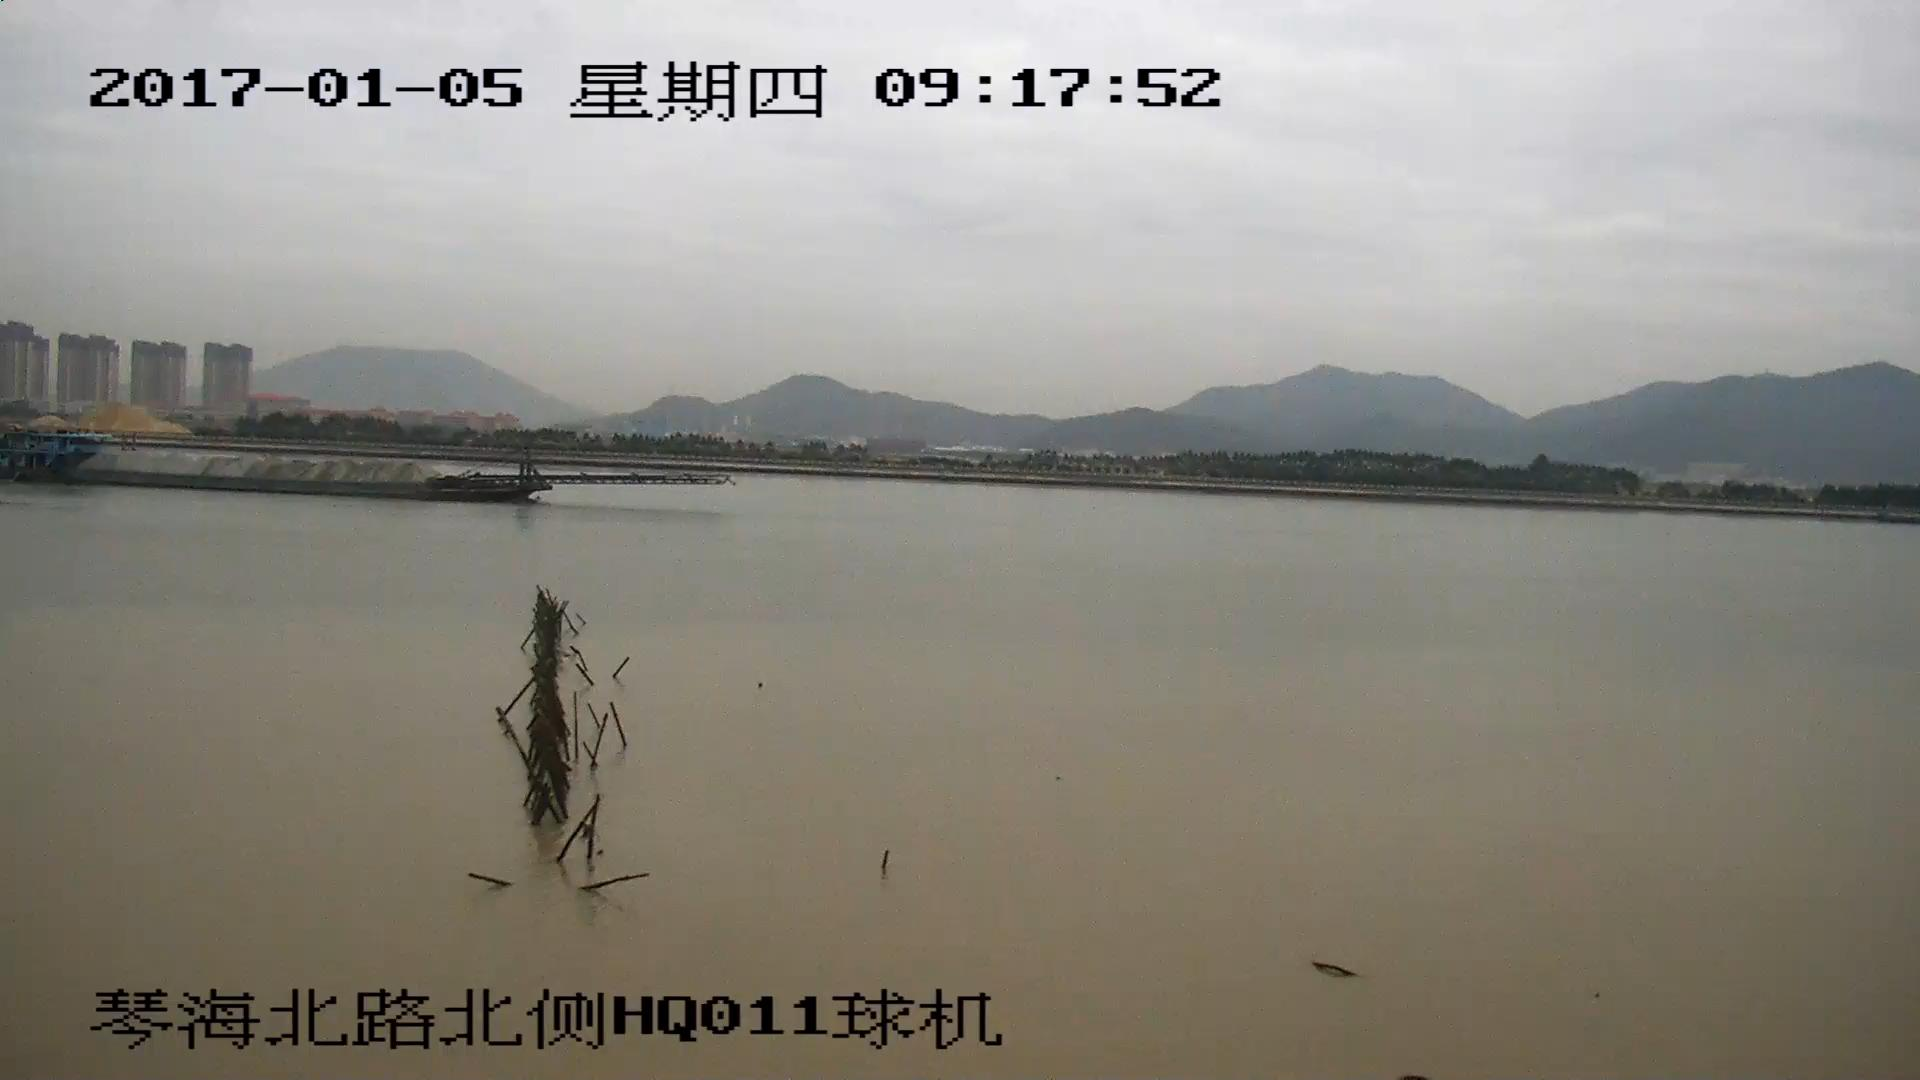ore carrier: (1, 438, 724, 504)
